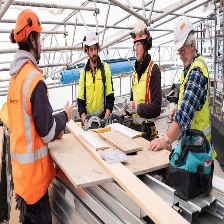helmet: (11, 6, 44, 43), (170, 15, 196, 56), (82, 31, 103, 54), (131, 24, 154, 44)
person: (6, 7, 69, 222), (169, 16, 212, 144), (76, 26, 116, 124), (126, 24, 162, 117)
vest: (7, 59, 54, 197), (176, 57, 217, 157), (79, 58, 114, 117), (128, 61, 157, 121)
